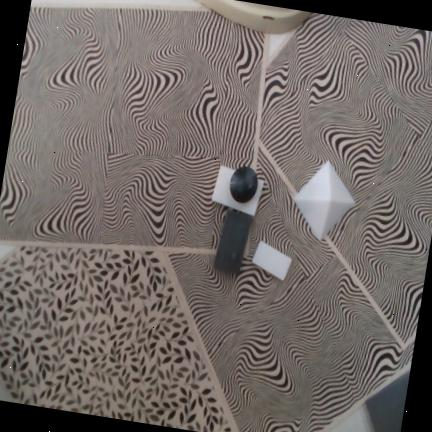Esfera: (230, 167, 257, 203)
Paralelepipedo: (211, 165, 264, 216), (214, 210, 252, 275), (251, 240, 292, 282)
Piramide: (293, 161, 356, 241)
